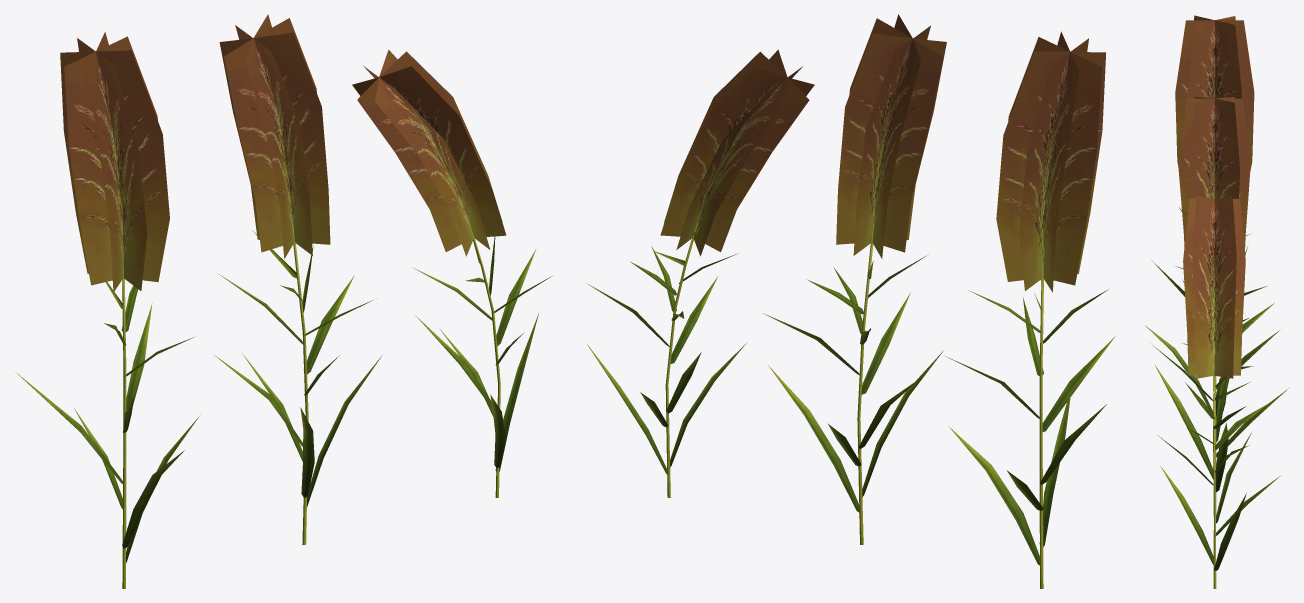
File: Reed.FBX
The picture shows the model from 3 angles, left to right: view 1: azimuth 30°, elevation 25°; view 2: azimuth 150°, elevation 25°; view 3: azimuth 270°, elevation 25°; orthographic projection. The views are drawn at different scales.
Visible parts, largest first — view 1: reed_0, reed_1, reed_2; view 2: reed_0, reed_1, reed_2; view 3: reed_2, reed_1, reed_0.
Boxes of the visible parts, x1,y1,x2,y2 form: reed_0: (14,32,199,588); reed_1: (213,14,382,544); reed_2: (352,49,553,497); reed_0: (946,31,1115,588); reed_1: (763,14,946,544); reed_2: (586,49,814,497); reed_2: (1157,196,1281,588); reed_1: (1150,96,1288,516); reed_0: (1145,15,1279,416).
Size of the model in its own units: 75.75 by 76.14 by 23.76.
